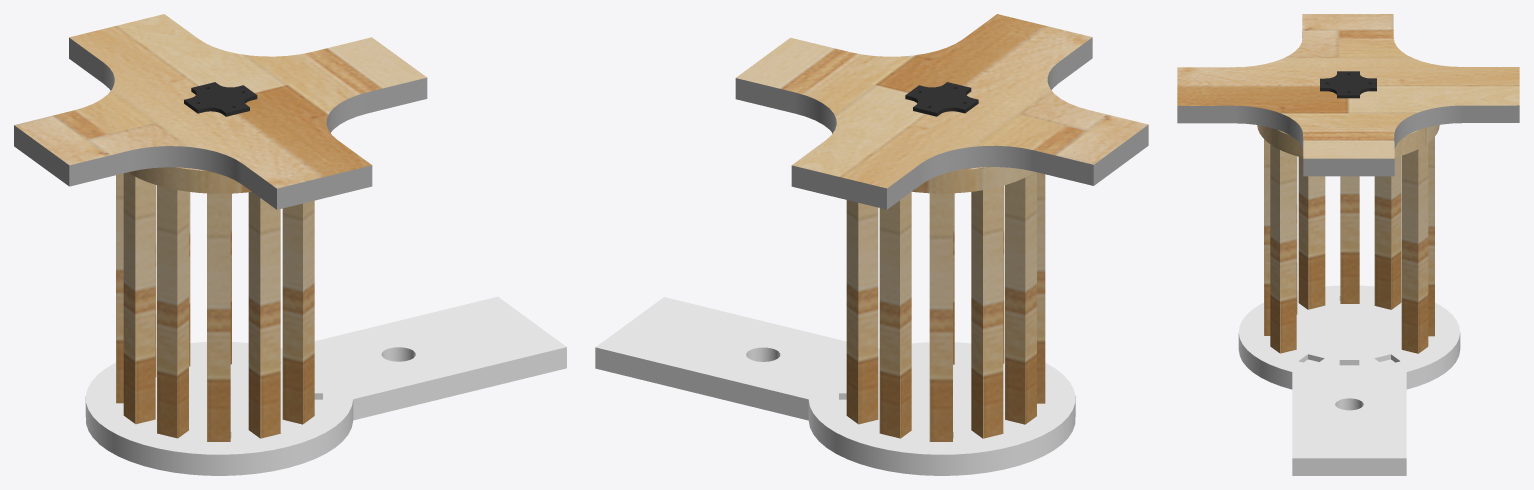
The model's file is cocktail.glb.
The picture shows the model from 3 angles, left to right: view 1: azimuth 30°, elevation 25°; view 2: azimuth 150°, elevation 25°; view 3: azimuth 270°, elevation 25°; orthographic projection. The views are drawn at different scales.
Parts seen in each view (by area): view 1: Solid1 (×9), Solid2; view 2: Solid1 (×9), Solid2; view 3: Solid1 (×10), Solid2.
Part boxes in pixels (x1=…): Solid1 (×9): x1=14, y1=14, x2=566, y2=475; Solid2: x1=128, y1=167, x2=251, y2=193; Solid1 (×9): x1=595, y1=14, x2=1148, y2=475; Solid2: x1=832, y1=133, x2=1034, y2=193; Solid1 (×10): x1=1177, y1=14, x2=1519, y2=475; Solid2: x1=1257, y1=125, x2=1439, y2=157.
Size of the model in its own units: 0.4116 by 0.2577 by 0.3002.
5 materials, 1 textured.
